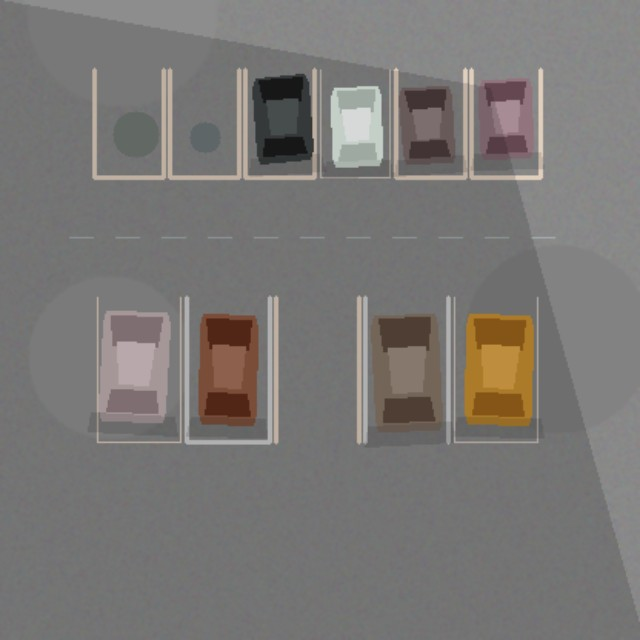space-empty: (275, 297, 358, 442), (94, 69, 163, 177), (169, 69, 238, 177)
space-occupied: (97, 297, 180, 442), (186, 297, 269, 442), (365, 297, 448, 442), (454, 297, 537, 442), (395, 69, 465, 177), (245, 69, 314, 177), (320, 69, 389, 177), (471, 69, 540, 177)
